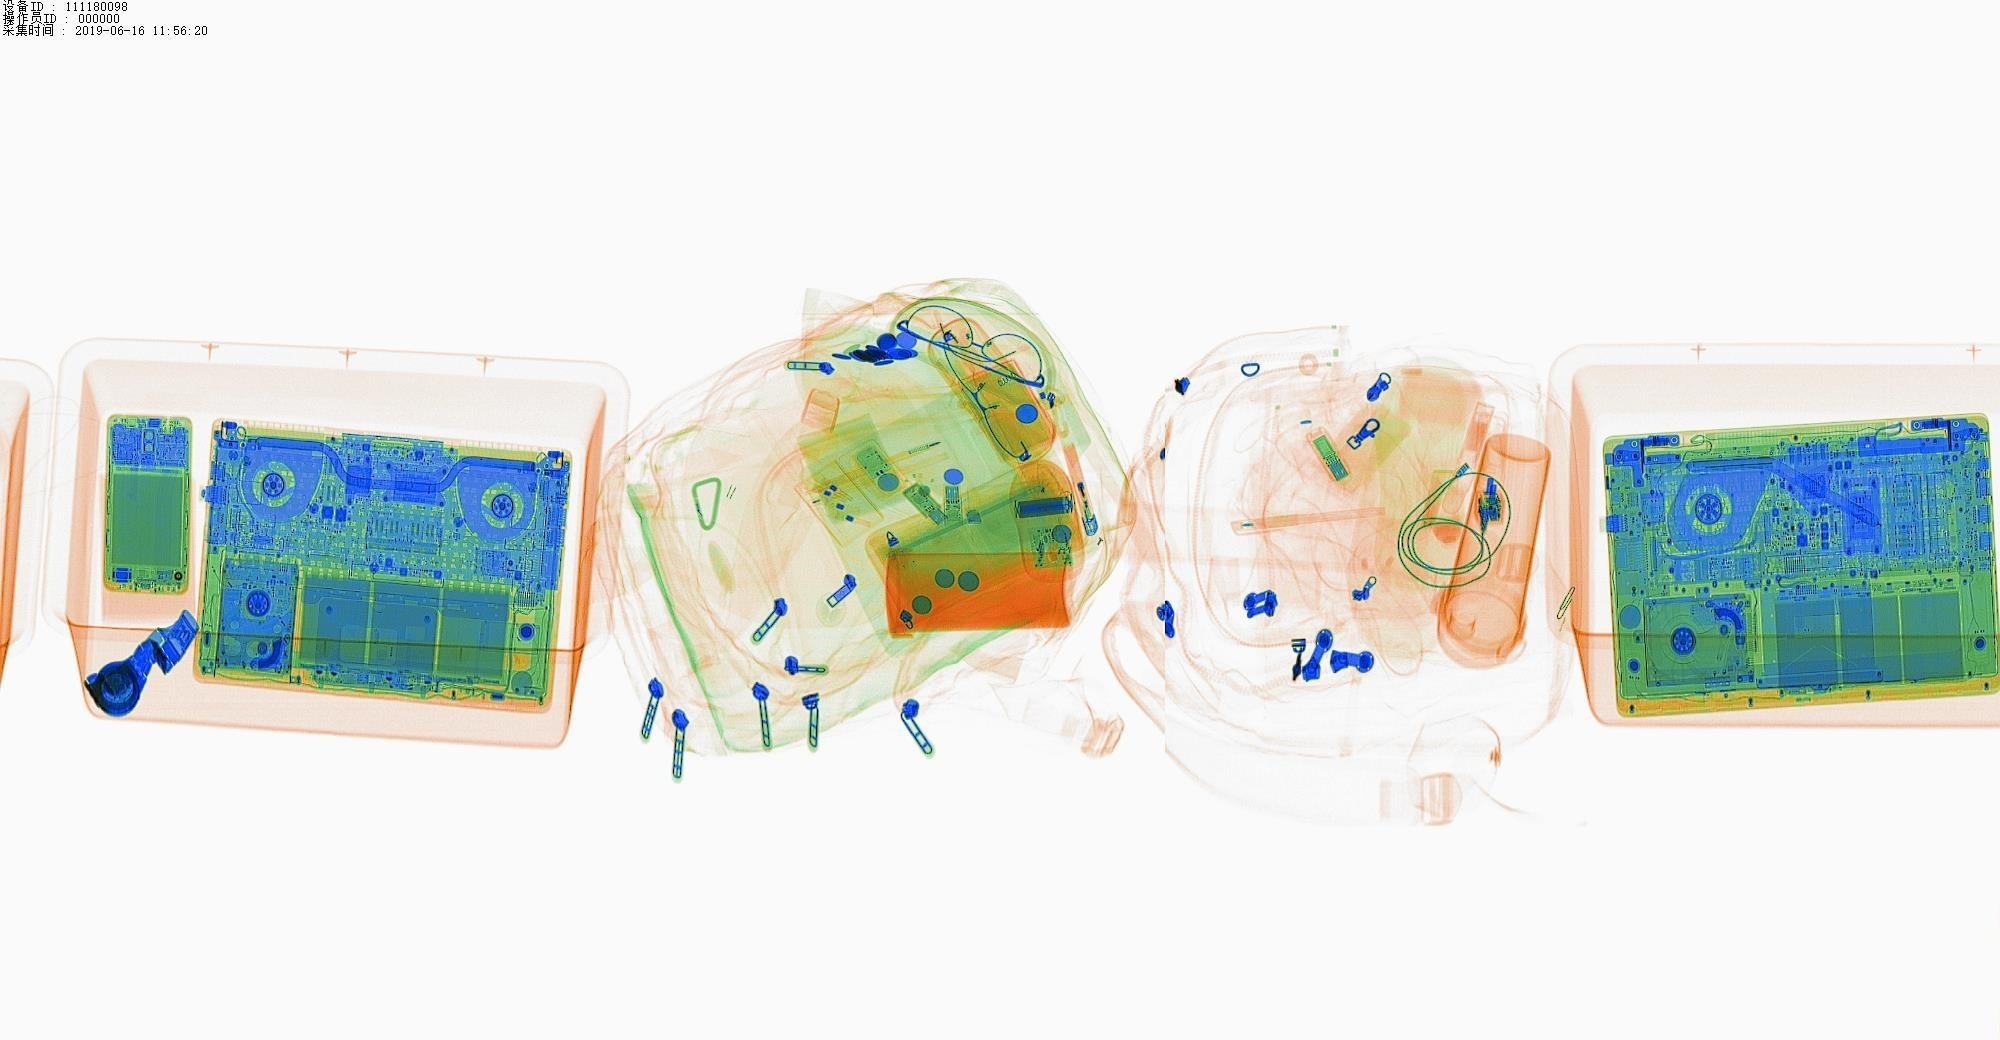NonmetallicFire: (1056, 435, 1119, 550)
